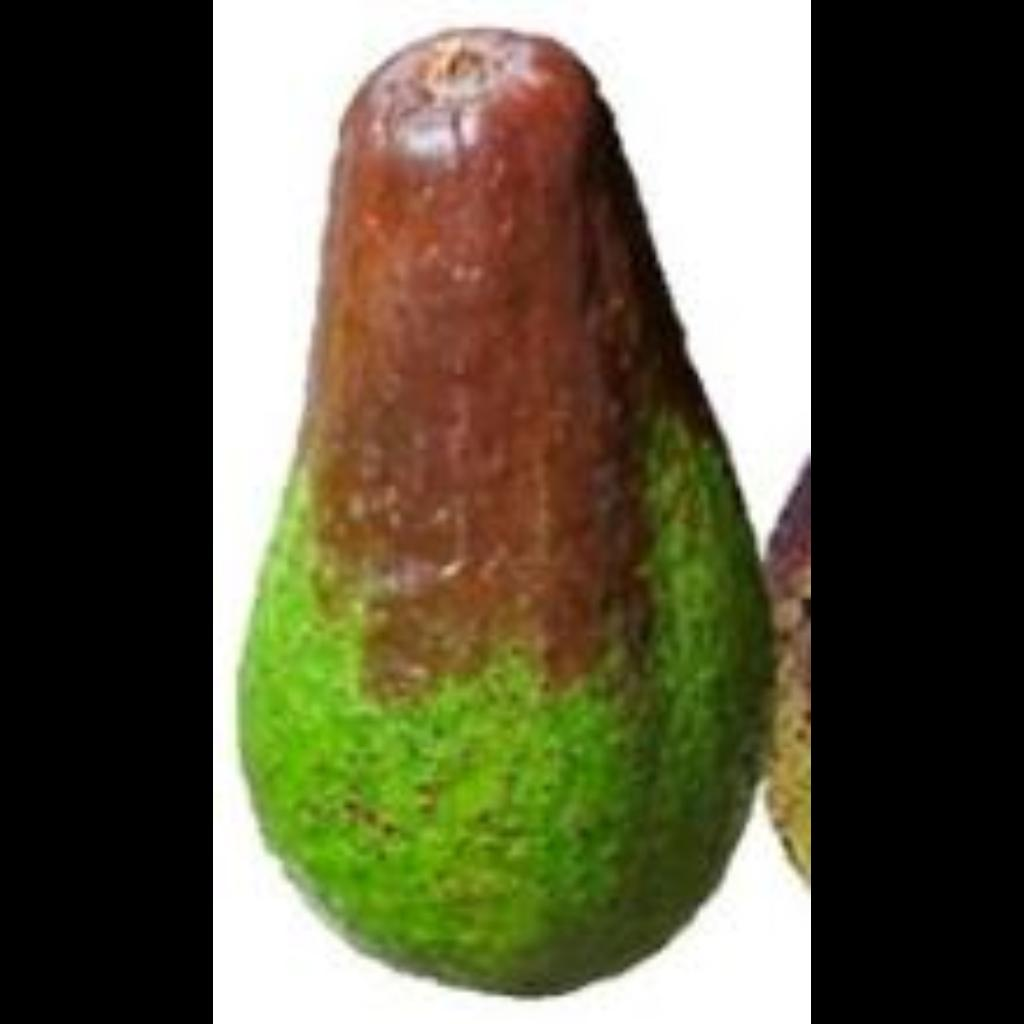stem end rot: (236, 33, 765, 991)
